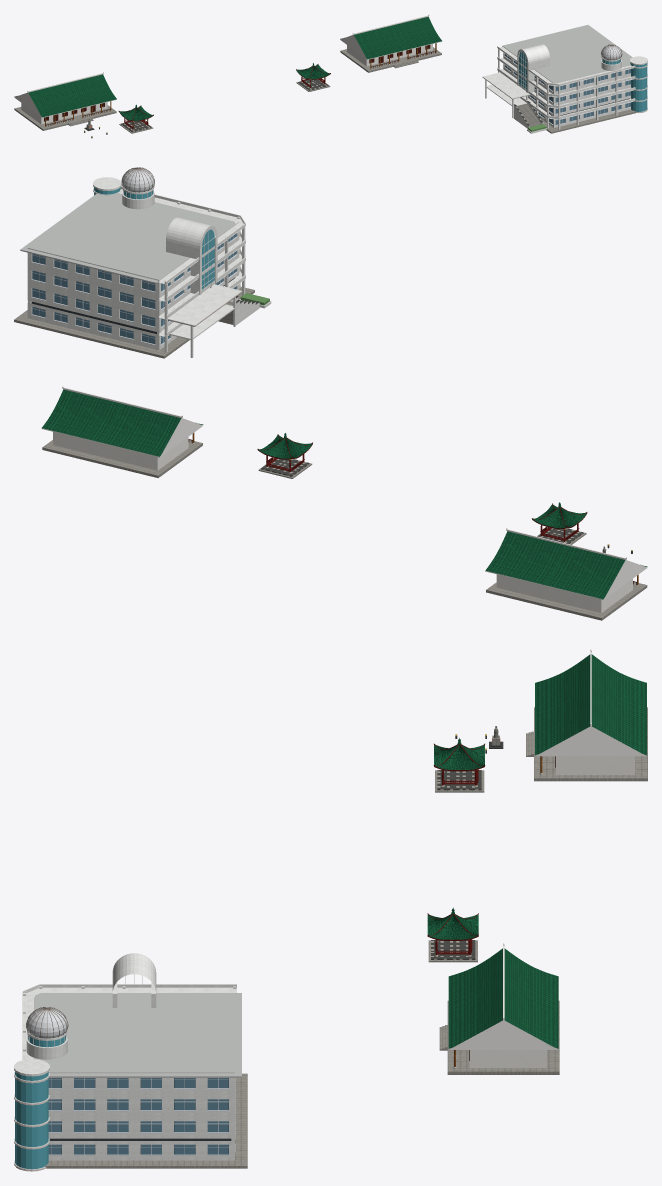
The model's file is r2_heroes_heritage_lod0.glb.
The picture shows the model from 3 angles, top to bottom: view 1: azimuth 30°, elevation 25°; view 2: azimuth 150°, elevation 25°; view 3: azimuth 270°, elevation 25°; orthographic projection. The views are drawn at different scales.
Parts seen in each view (by area): view 1: library_observatory_r2, fengqitang_hall_r2, yanlintang_hall_r2, fengqiting_pavilion_r2, yanlinting_pavilion_r2; view 2: library_observatory_r2, fengqitang_hall_r2, yanlintang_hall_r2, yanlinting_pavilion_r2, fengqiting_pavilion_r2; view 3: library_observatory_r2, fengqitang_hall_r2, yanlintang_hall_r2, yanlinting_pavilion_r2, fengqiting_pavilion_r2.
Part boxes in pixels (x1=…): library_observatory_r2: x1=482, y1=25, x2=647, y2=133; fengqitang_hall_r2: x1=14, y1=72, x2=116, y2=138; yanlintang_hall_r2: x1=340, y1=14, x2=442, y2=72; fengqiting_pavilion_r2: x1=118, y1=104, x2=153, y2=133; yanlinting_pavilion_r2: x1=296, y1=63, x2=330, y2=91; library_observatory_r2: x1=14, y1=167, x2=271, y2=358; fengqitang_hall_r2: x1=485, y1=528, x2=647, y2=620; yanlintang_hall_r2: x1=41, y1=386, x2=203, y2=477; yanlinting_pavilion_r2: x1=257, y1=433, x2=312, y2=478; fengqiting_pavilion_r2: x1=532, y1=502, x2=587, y2=544; library_observatory_r2: x1=14, y1=953, x2=247, y2=1171; fengqitang_hall_r2: x1=455, y1=649, x2=647, y2=781; yanlintang_hall_r2: x1=439, y1=943, x2=559, y2=1074; yanlinting_pavilion_r2: x1=427, y1=907, x2=478, y2=962; fengqiting_pavilion_r2: x1=433, y1=738, x2=485, y2=792.
Bounding box in the file's own units: 173 × 23.24 × 100.
Materials: 24 (10 with a texture image).
